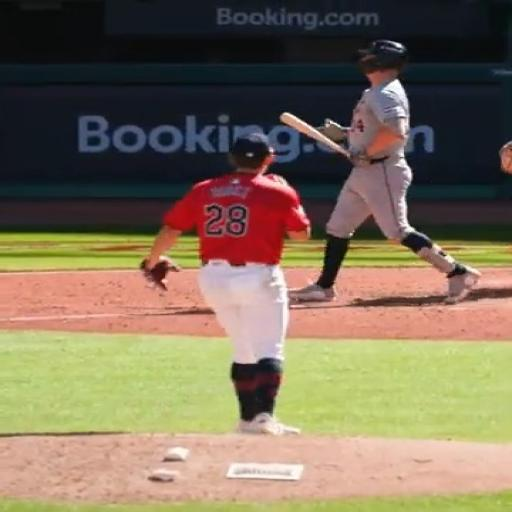bat: (281, 112, 349, 159)
